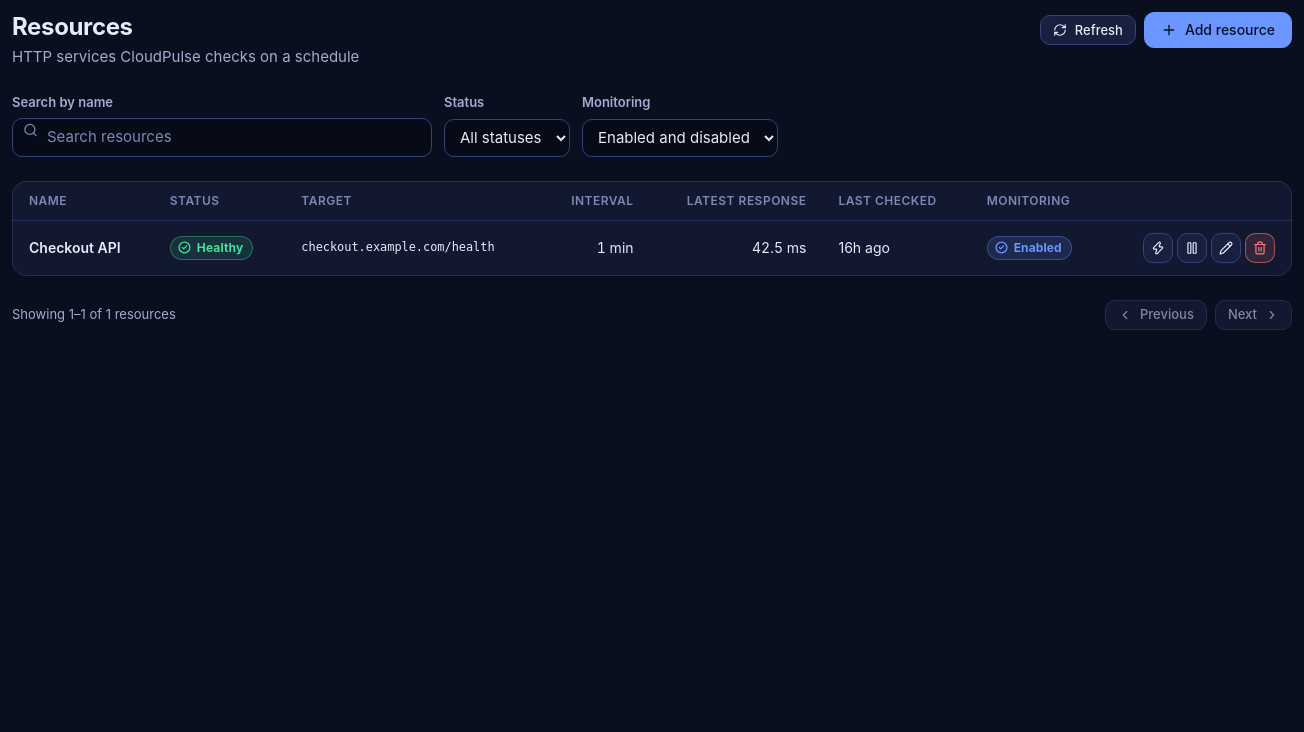
Scenario: ResourcesPage row actions › runs a manual check and reports the result
This screenshot has width=1304, height=732.
expect the link "Checkout API" is shown: met, box top-left (29, 239), bottom-right (121, 256)
Click the button named "Check Checkout API now" at (1158, 248), box top-left (1143, 232), bottom-right (1173, 262)
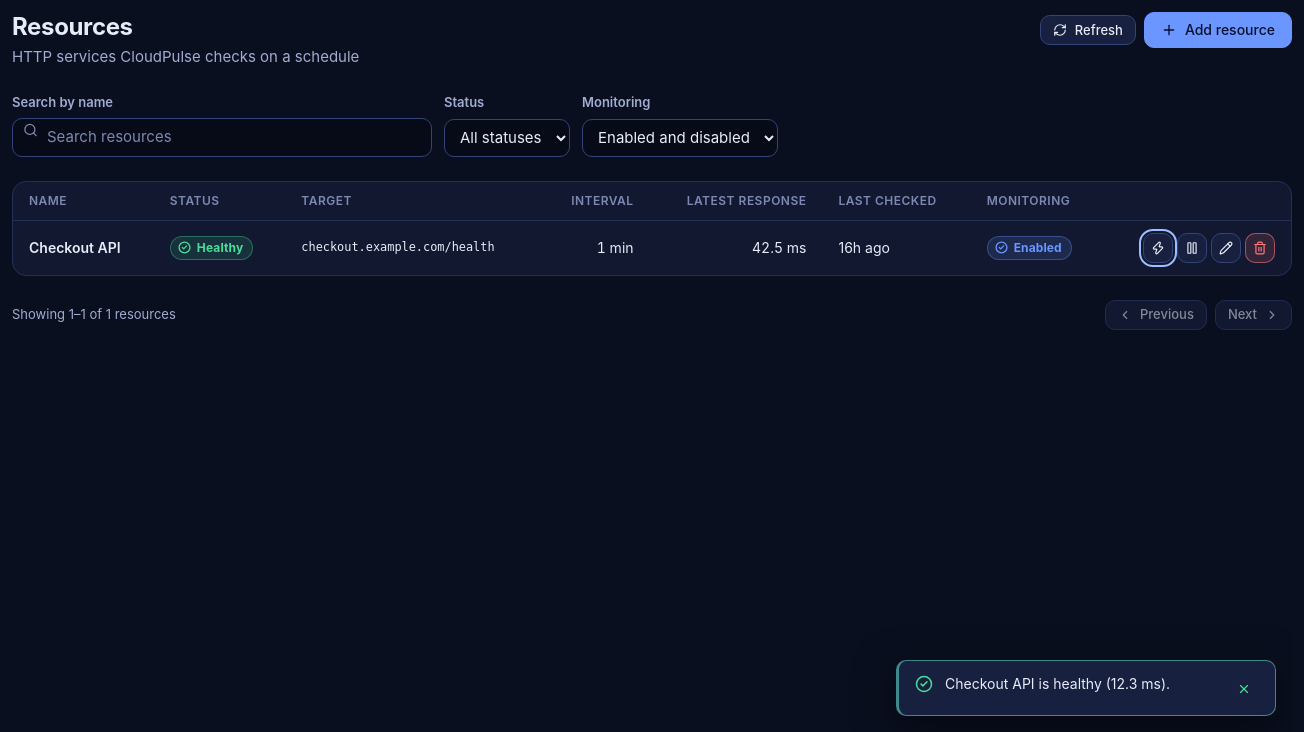
expect the text "Checkout API is healthy (12.3 ms)." is shown: met, box top-left (945, 675), bottom-right (1170, 692)
